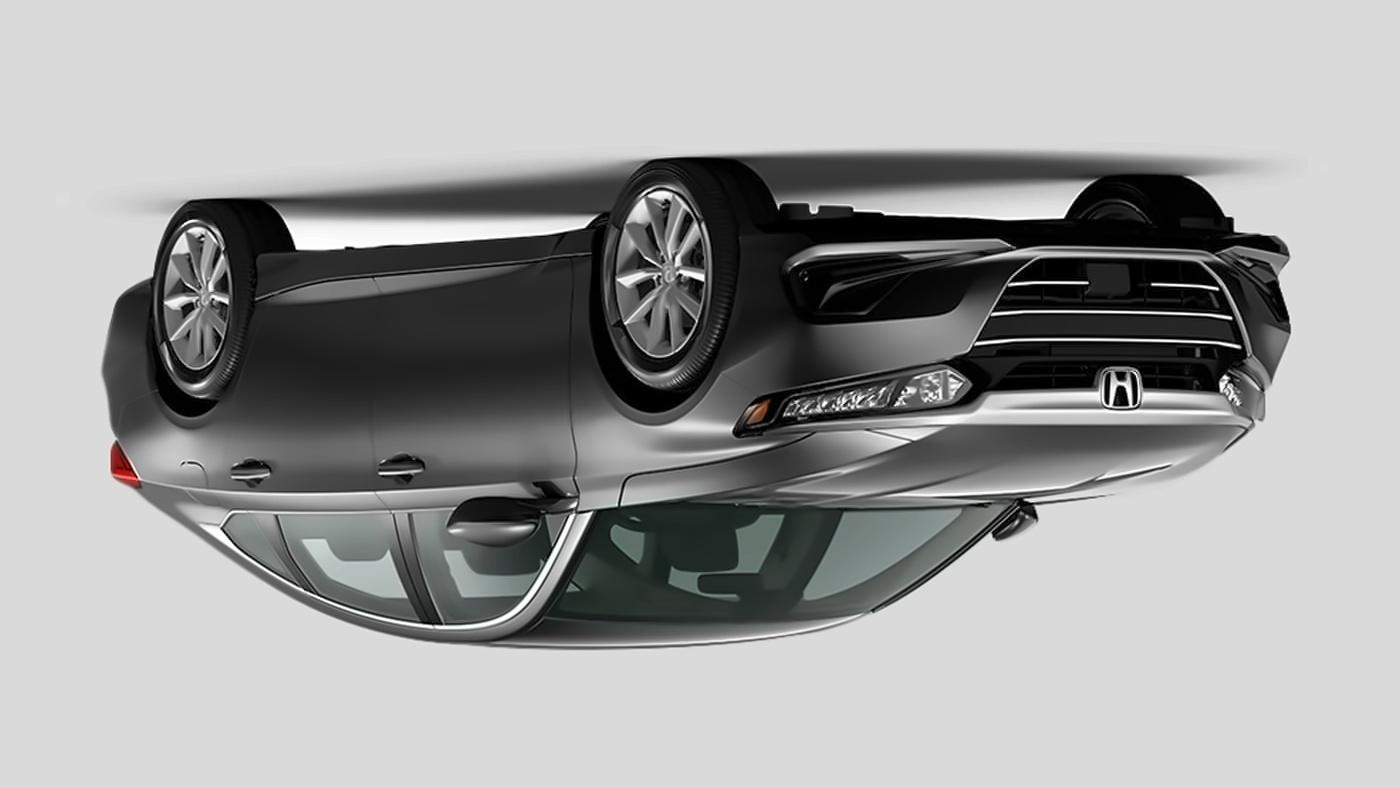Car hood: (621, 407, 1253, 508)
Fender - -F-L-: (558, 201, 806, 548)
Fender - -R-L-: (121, 241, 283, 509)
Front bumper: (731, 209, 1335, 393)
Headlight - -L-: (733, 355, 978, 448)
Headlight - -R-: (1206, 361, 1280, 438)
Passenger-s door - -F-L-: (374, 271, 580, 640)
Passenger-s door - -R-L-: (231, 275, 428, 640)
Rear bumper: (60, 263, 174, 425)
Rear light - -L-: (81, 430, 173, 530)
Side bumper - -L-: (248, 220, 592, 305)
Side mirror - -L-: (433, 464, 568, 565)
Side mirror - -R-: (969, 489, 1058, 555)
